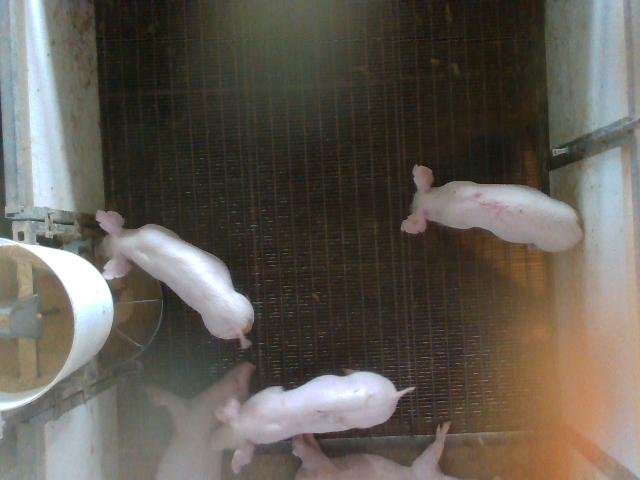pig-5: (401, 166, 582, 252)
